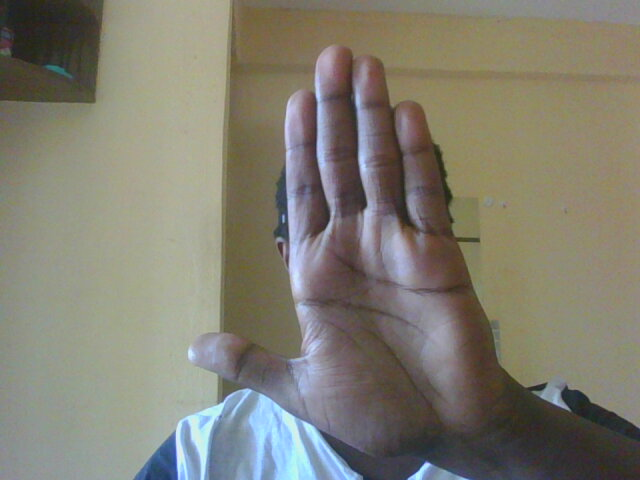Hello: (157, 45, 551, 448)
